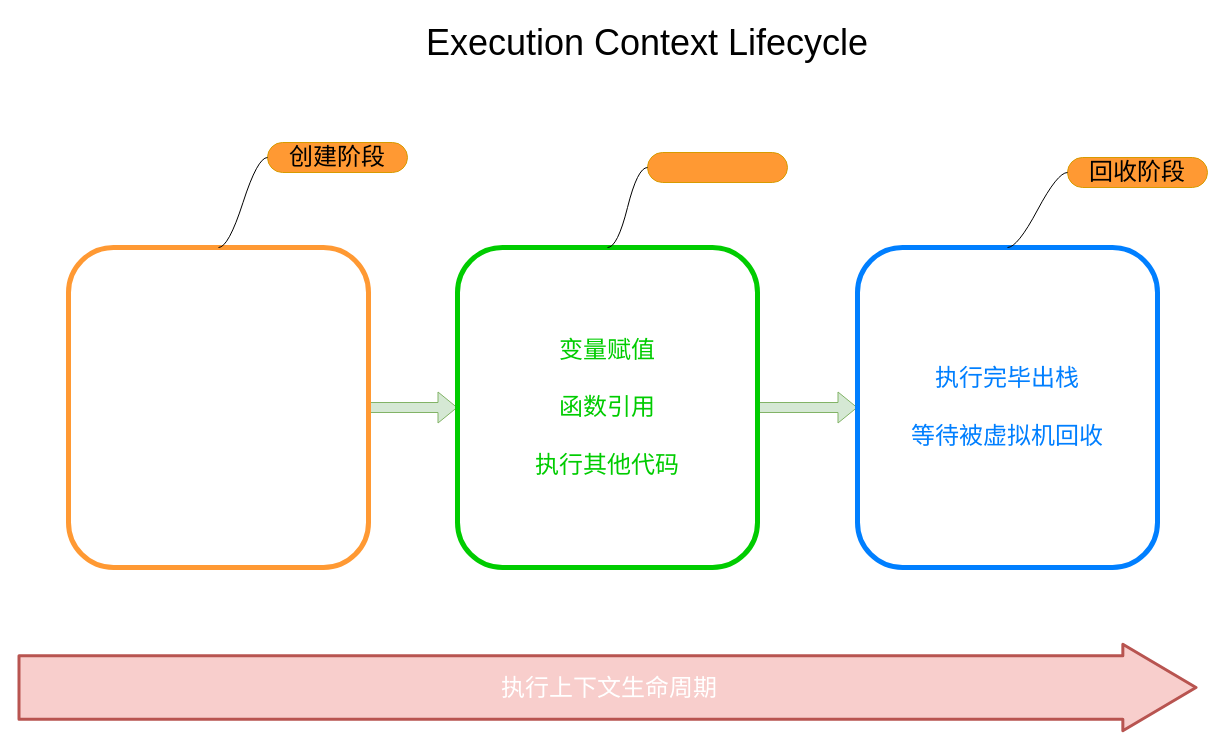
Image size: 1225x749. Some labels were removed from this diagram. The centre of each missing label's shape, as x and y in pixels:
"创建变量对象 创建作用域链 确定this指向" belongs at pixel 218 407.
"执行阶段" belongs at pixel 717 167.
